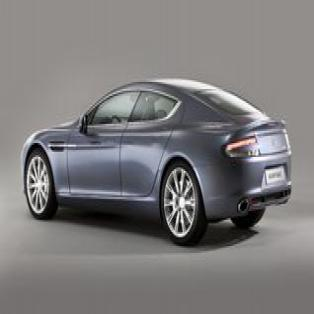Auto: (18, 73, 296, 253)
